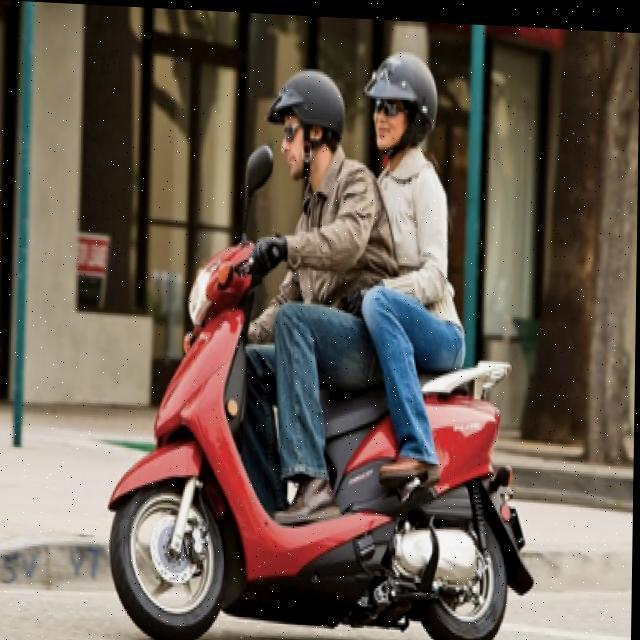Helmet: (266, 54, 346, 182)
